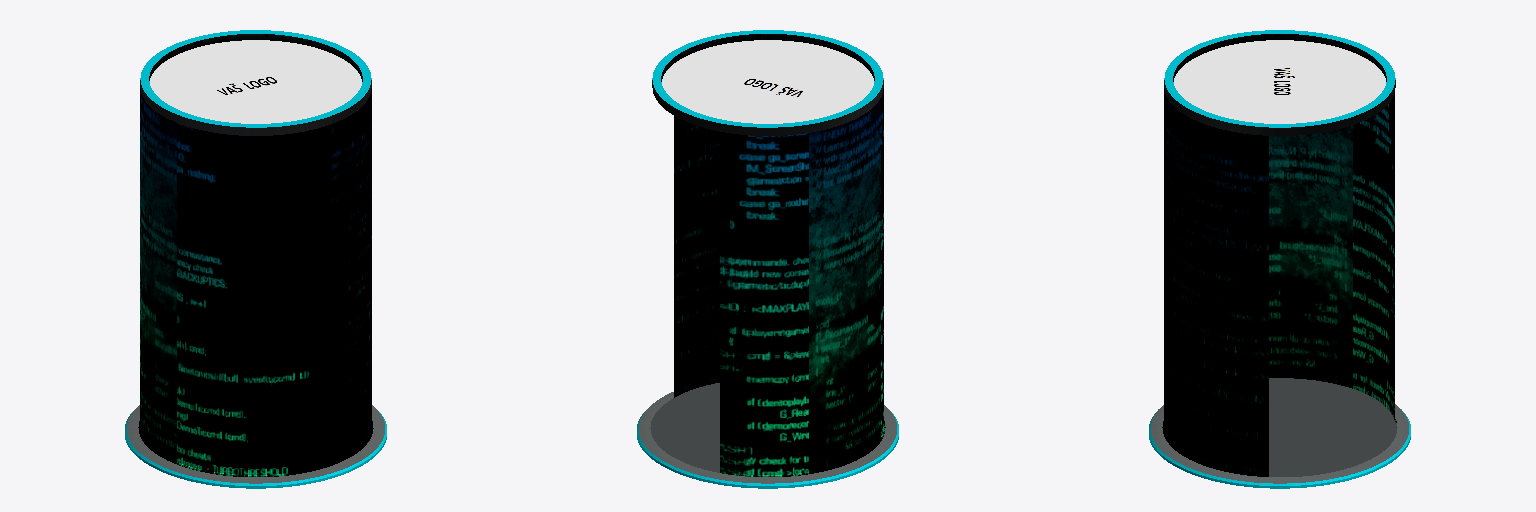
The picture shows the model from 3 angles: view 1: azimuth 30°, elevation 25°; view 2: azimuth 150°, elevation 25°; view 3: azimuth 270°, elevation 25°; orthographic projection.
Parts seen in each view (by area): view 1: Cylinder.001, Cylinder.000_Cylinder.003; view 2: Cylinder.001, Cylinder.000_Cylinder.003; view 3: Cylinder.001, Cylinder.000_Cylinder.003.
Boxes of the visible parts, x1,y1,x2,y2 form: Cylinder.001: [125, 30, 386, 488]; Cylinder.000_Cylinder.003: [150, 40, 361, 123]; Cylinder.001: [637, 30, 898, 488]; Cylinder.000_Cylinder.003: [662, 40, 873, 123]; Cylinder.001: [1149, 30, 1410, 488]; Cylinder.000_Cylinder.003: [1174, 40, 1385, 123].
Size of the model in its own units: 1.35 by 2 by 1.35.
4 materials, 2 textured.